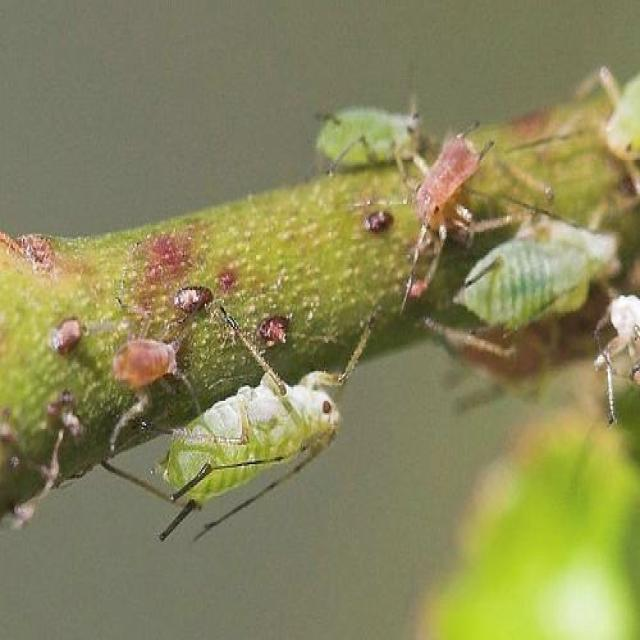aphid: (112, 318, 380, 562), (403, 180, 627, 393)
